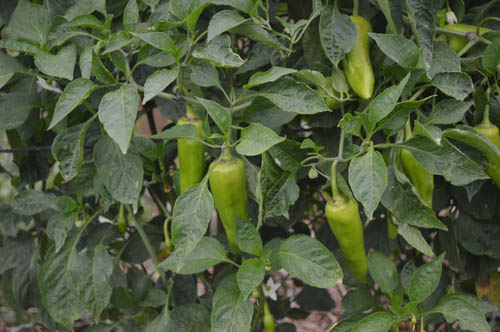ChiliPepper: (209, 163, 250, 254), (329, 202, 368, 279), (341, 18, 373, 102), (173, 121, 205, 199), (405, 146, 432, 203)
